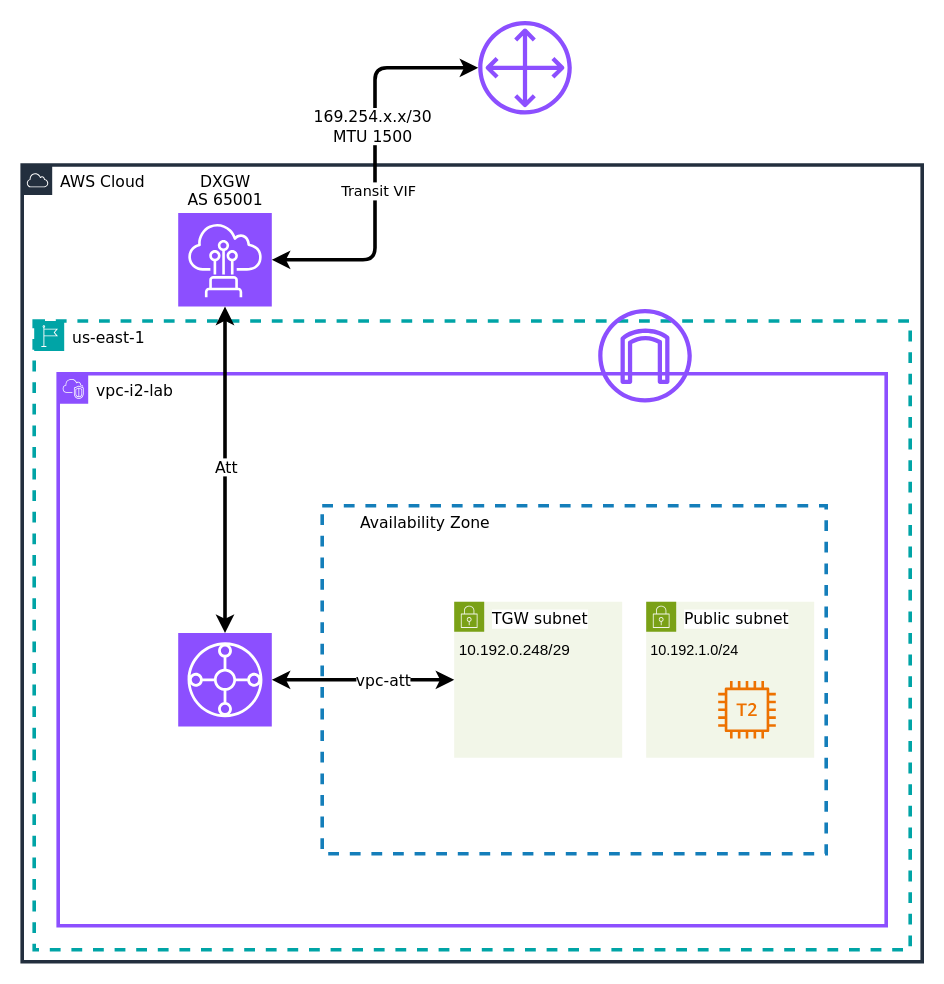
Image size: 944x984. Some labels were removed from this diagram. The centre of each missing label's shape, as x and y in pixels:
i2-lab: [746,709]
I2CR AS 55038: [524,67]
IGW: [644,355]
TGW AS 65010: [224,679]
